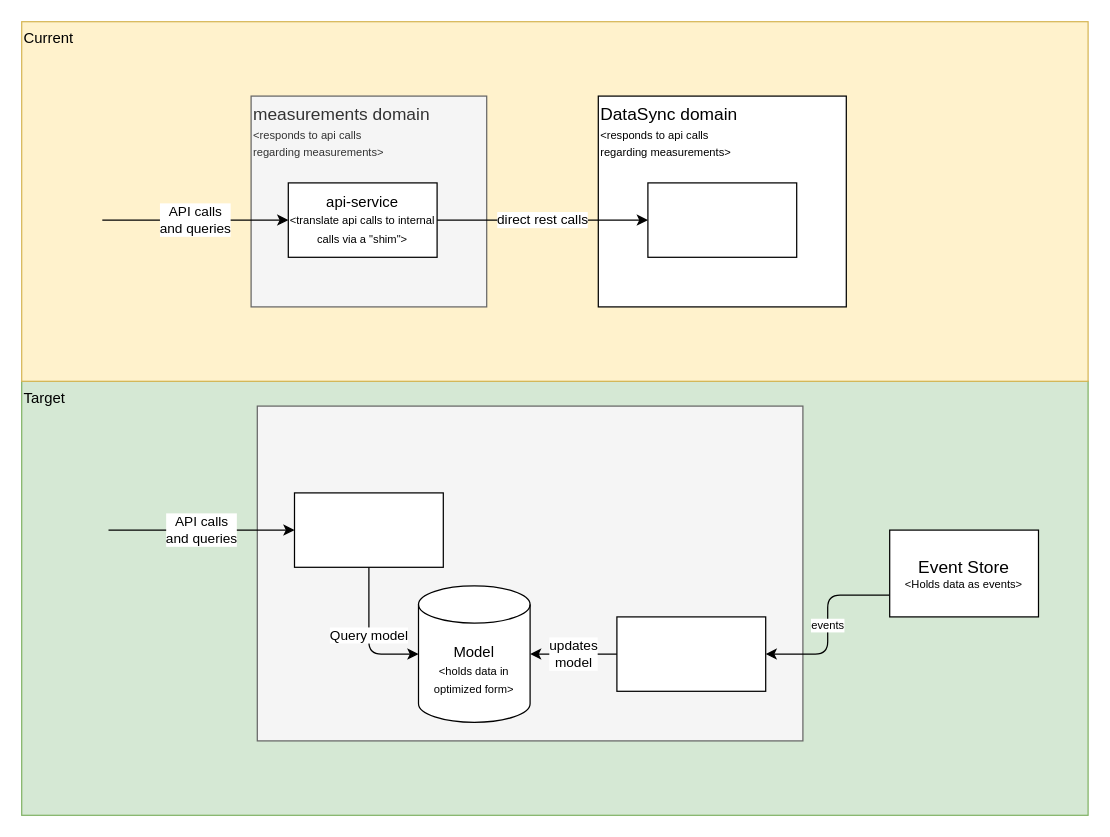
Some shapes in this 1110 by 837 pixel diagram are drawn without their labels. The shapes that lost their labels are listed below. From the top down, each one's box as (x1, y1, x2, y2) in pixels, then its label:
(647, 182, 797, 257): DataHub2 <Connector to DataHub2>
(293, 492, 443, 567): api-service <takes the api calls and queries the model>
(256, 405, 803, 741): measurements <future - manage data access delegation>
(616, 616, 766, 691): worker <processes events and updates the model>
